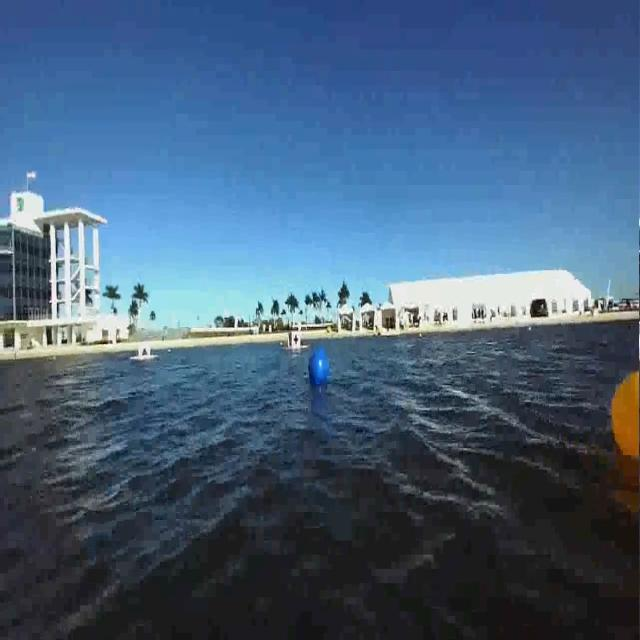blue-buoy: (309, 339, 338, 395)
yellow-buoy: (606, 361, 637, 470)
